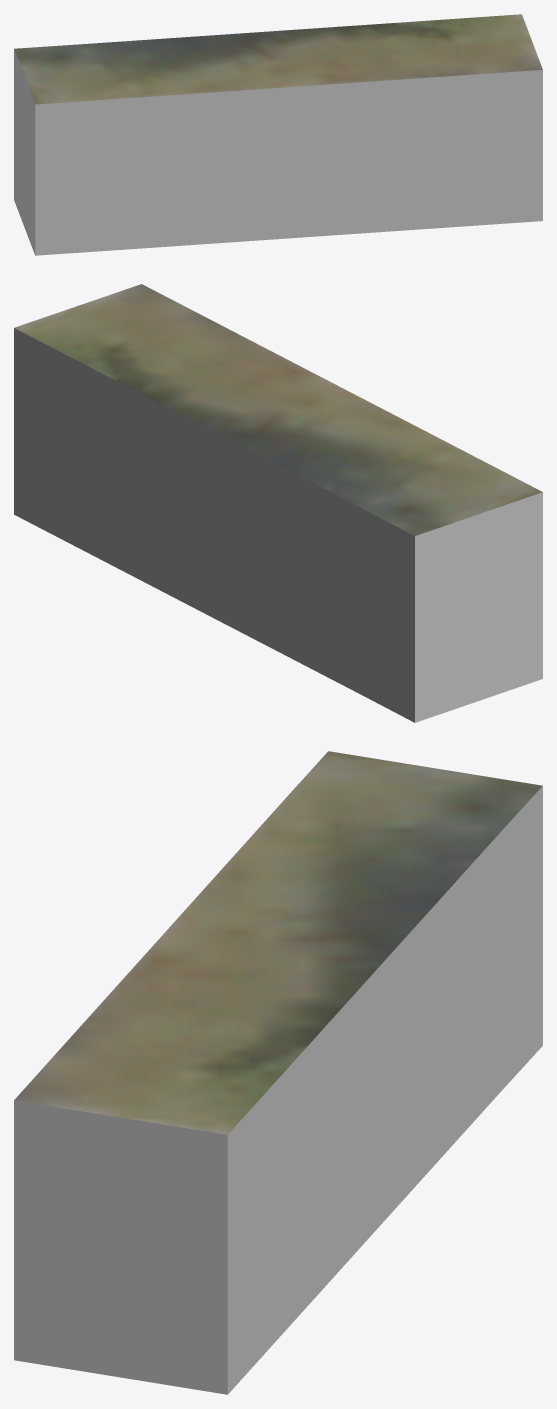
Rendered from DEBW_0010007Txfx.gltf.
3 renders of one model, top to bottom at view 1: azimuth 30°, elevation 25°; view 2: azimuth 150°, elevation 25°; view 3: azimuth 270°, elevation 25°, orthographic. The views are drawn at different scales.
Parts seen in each view (by area): view 1: Z_UP; view 2: Z_UP; view 3: Z_UP.
Boxes of the visible parts, x1,y1,x2,y2 form: Z_UP: (14, 14, 542, 255); Z_UP: (14, 284, 542, 722); Z_UP: (14, 751, 542, 1394).
Bounding box in the file's own units: 10.66 × 3.37 × 6.21.
2 materials, 1 textured.
